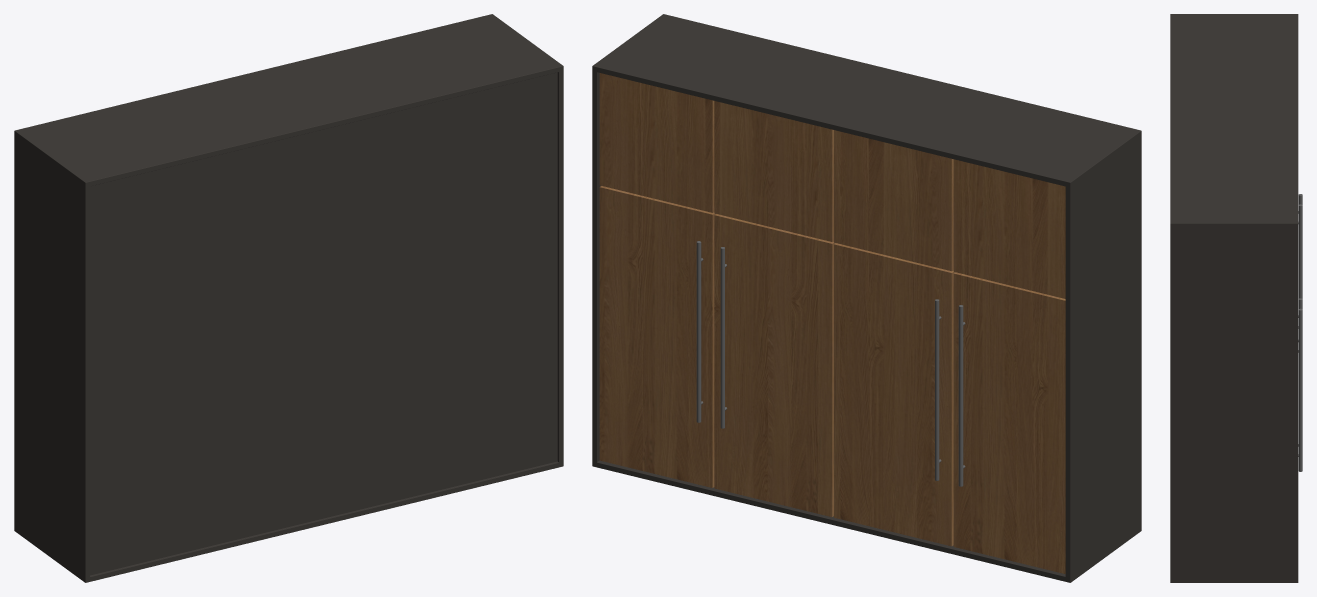
The model's file is wardrobe_large.glb.
3 renders of one model, left to right at view 1: azimuth 30°, elevation 25°; view 2: azimuth 150°, elevation 25°; view 3: azimuth 270°, elevation 25°, orthographic. The views are drawn at different scales.
Parts seen in each view (by area): view 1: Wardrobe_04_001; view 2: Wardrobe_04_001; view 3: Wardrobe_04_001.
Boxes of the visible parts, x1=… form: Wardrobe_04_001: x1=14, y1=14, x2=563, y2=582; Wardrobe_04_001: x1=592, y1=14, x2=1141, y2=582; Wardrobe_04_001: x1=1170, y1=14, x2=1302, y2=582.
Size of the model in its own units: 2.67 by 2.14 by 0.7142.
Materials: 3 (1 with a texture image).
